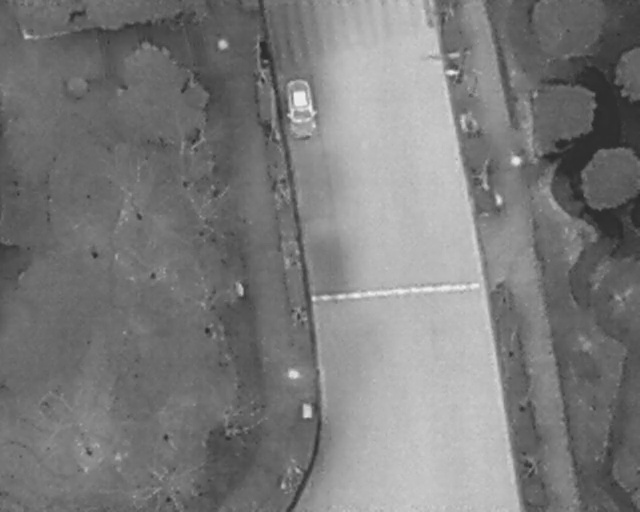Car: (282, 75, 321, 142)
